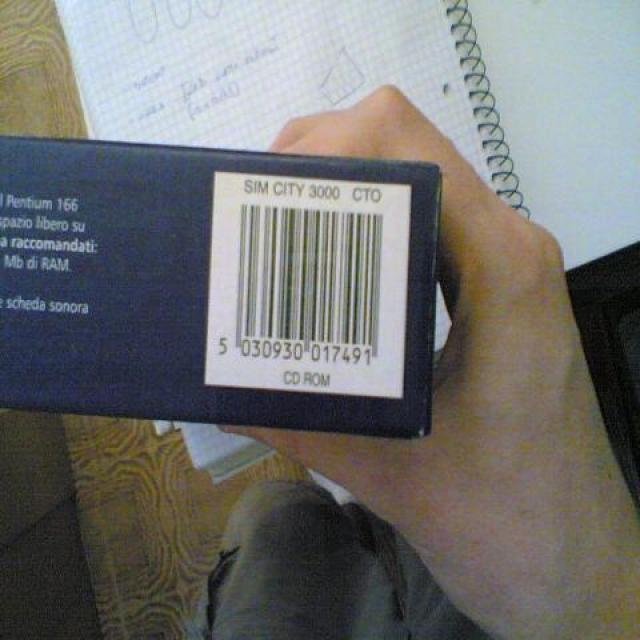Barcode: (203, 170, 413, 401)
